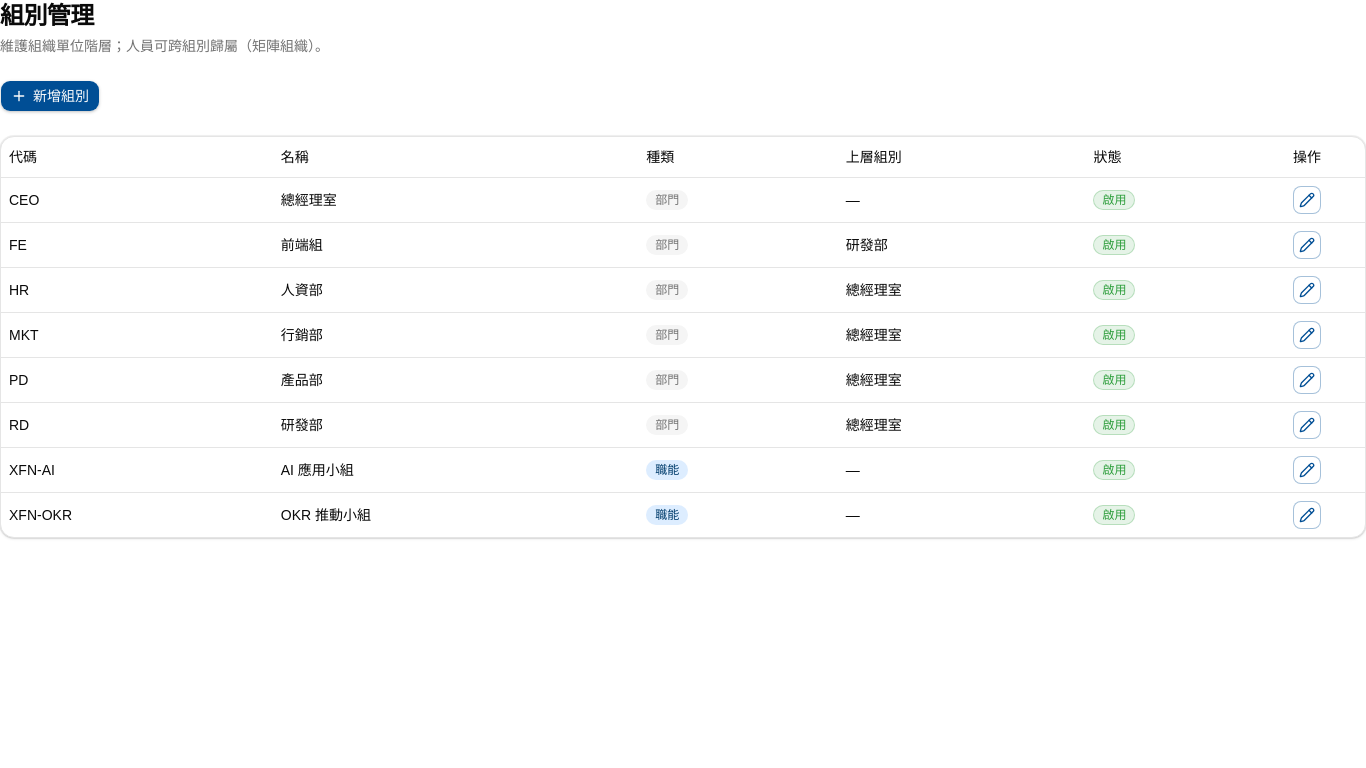
Test: GroupsPage 組別管理 › 於新增表單填入合法資料儲存後，新組別出現在表格
The image size is (1366, 768).
Click the button "新增組別": click(50, 96) 0,80 -> 100,112
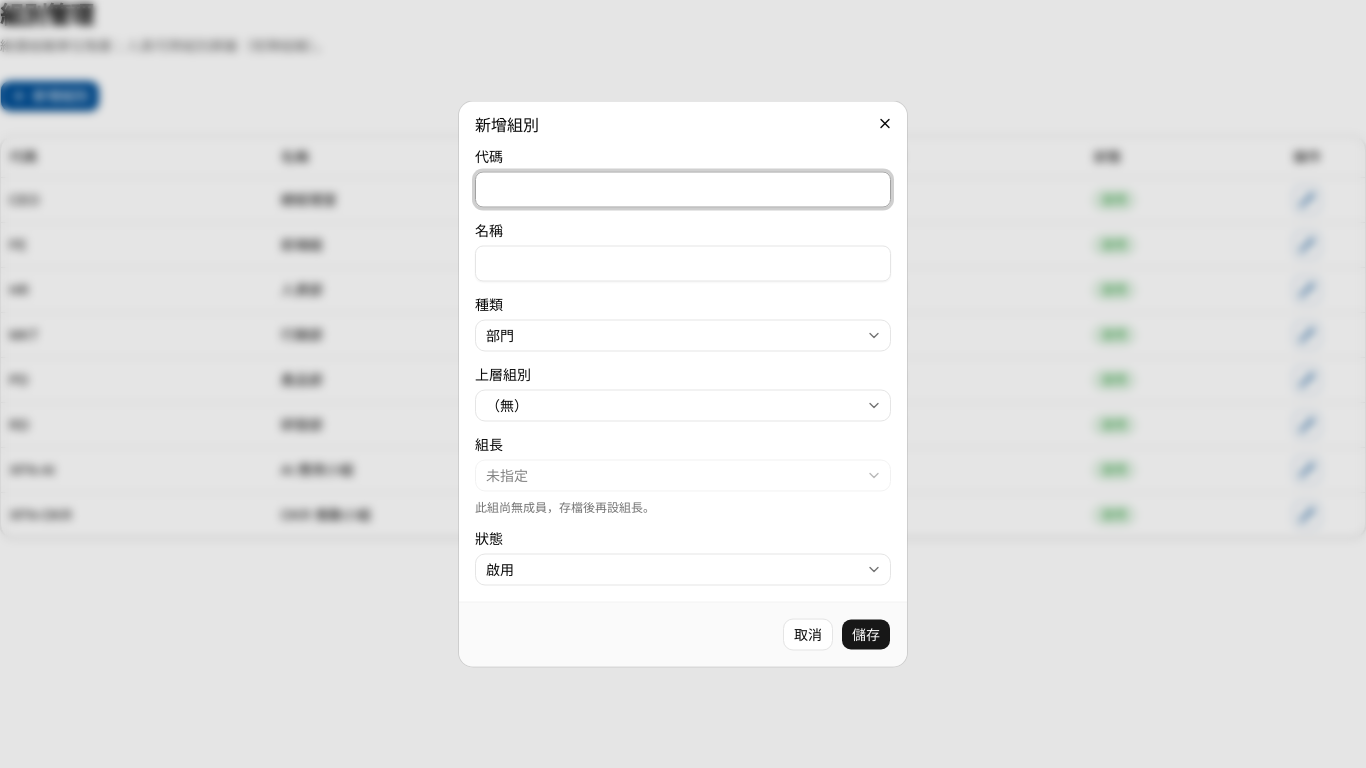
Expected: the dialog is shown, 459,102 -> 907,666
In the field labelled "代碼": (683, 190) 475,172 -> 891,208, type "QA"
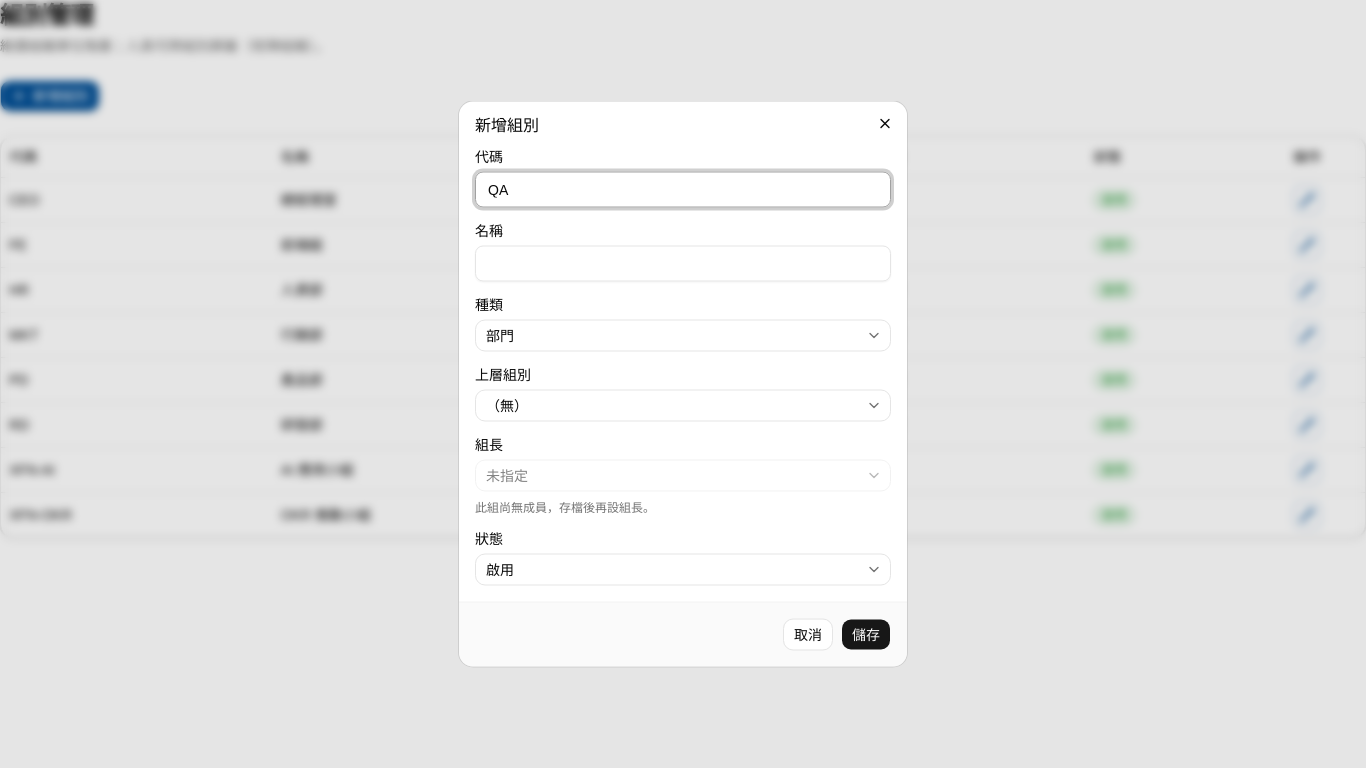
In the field labelled "名稱": (683, 264) 475,246 -> 891,282, type "品保部"
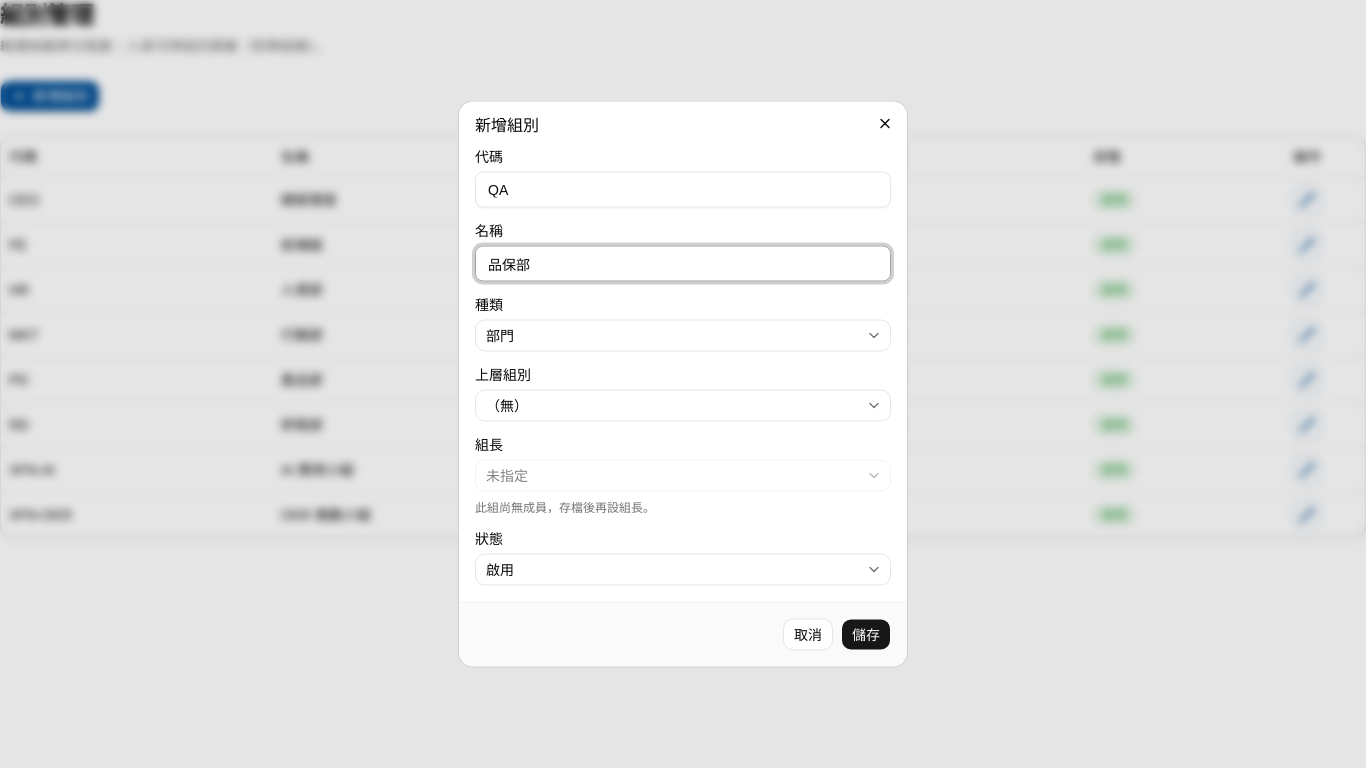
Click the button "儲存": click(866, 634) 841,618 -> 891,650
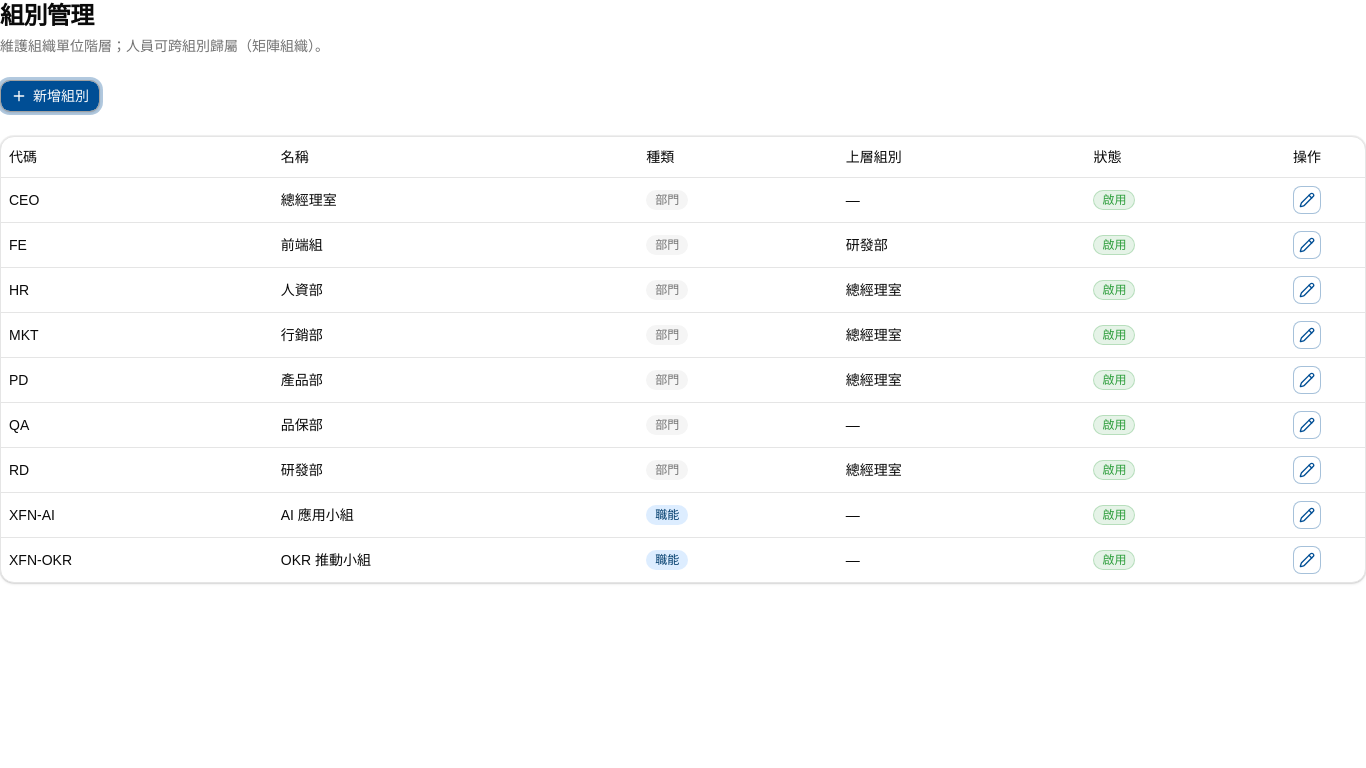
Expected: the cell "品保部" is shown, 273,402 -> 638,447
